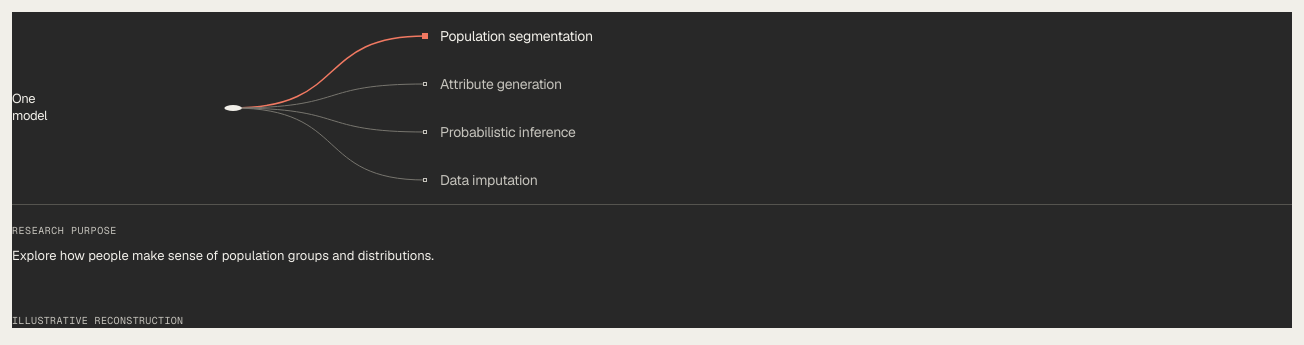
it: PMF capability exploration by mouse › connects Population segmentation to its public research purpose
Click the button "Data imputation" at (489, 180), box top-left (425, 156), bottom-right (1292, 204)
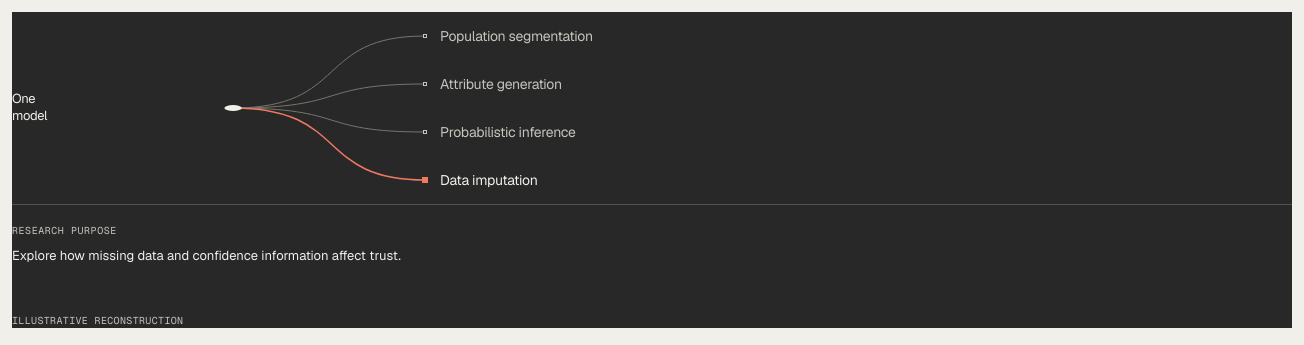
Hover over the button "Population segmentation" at (516, 36), box top-left (425, 12), bottom-right (1292, 60)
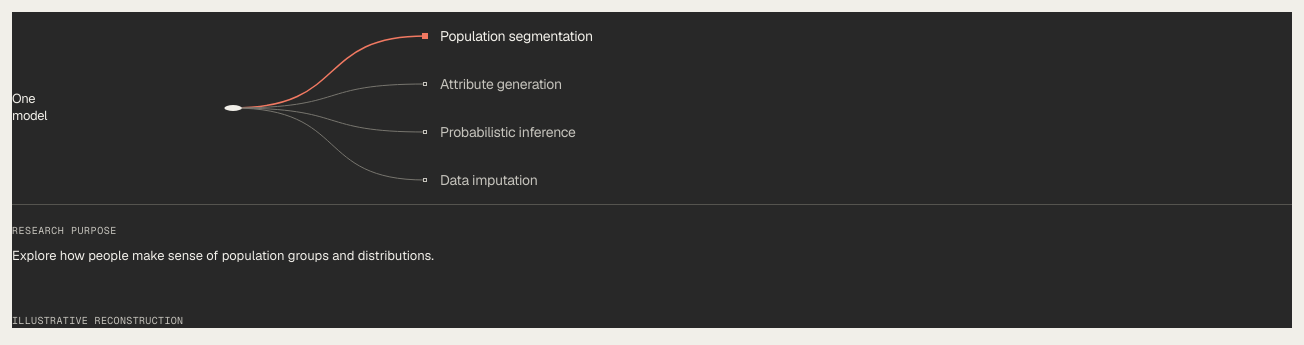
Check: the text "population groups and distributions" is shown, box top-left (12, 247), bottom-right (434, 264)
